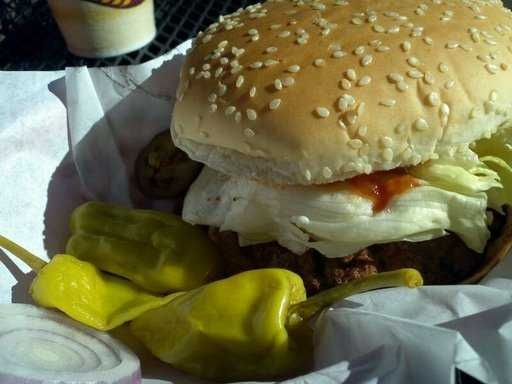hamburger: (174, 8, 512, 270)
